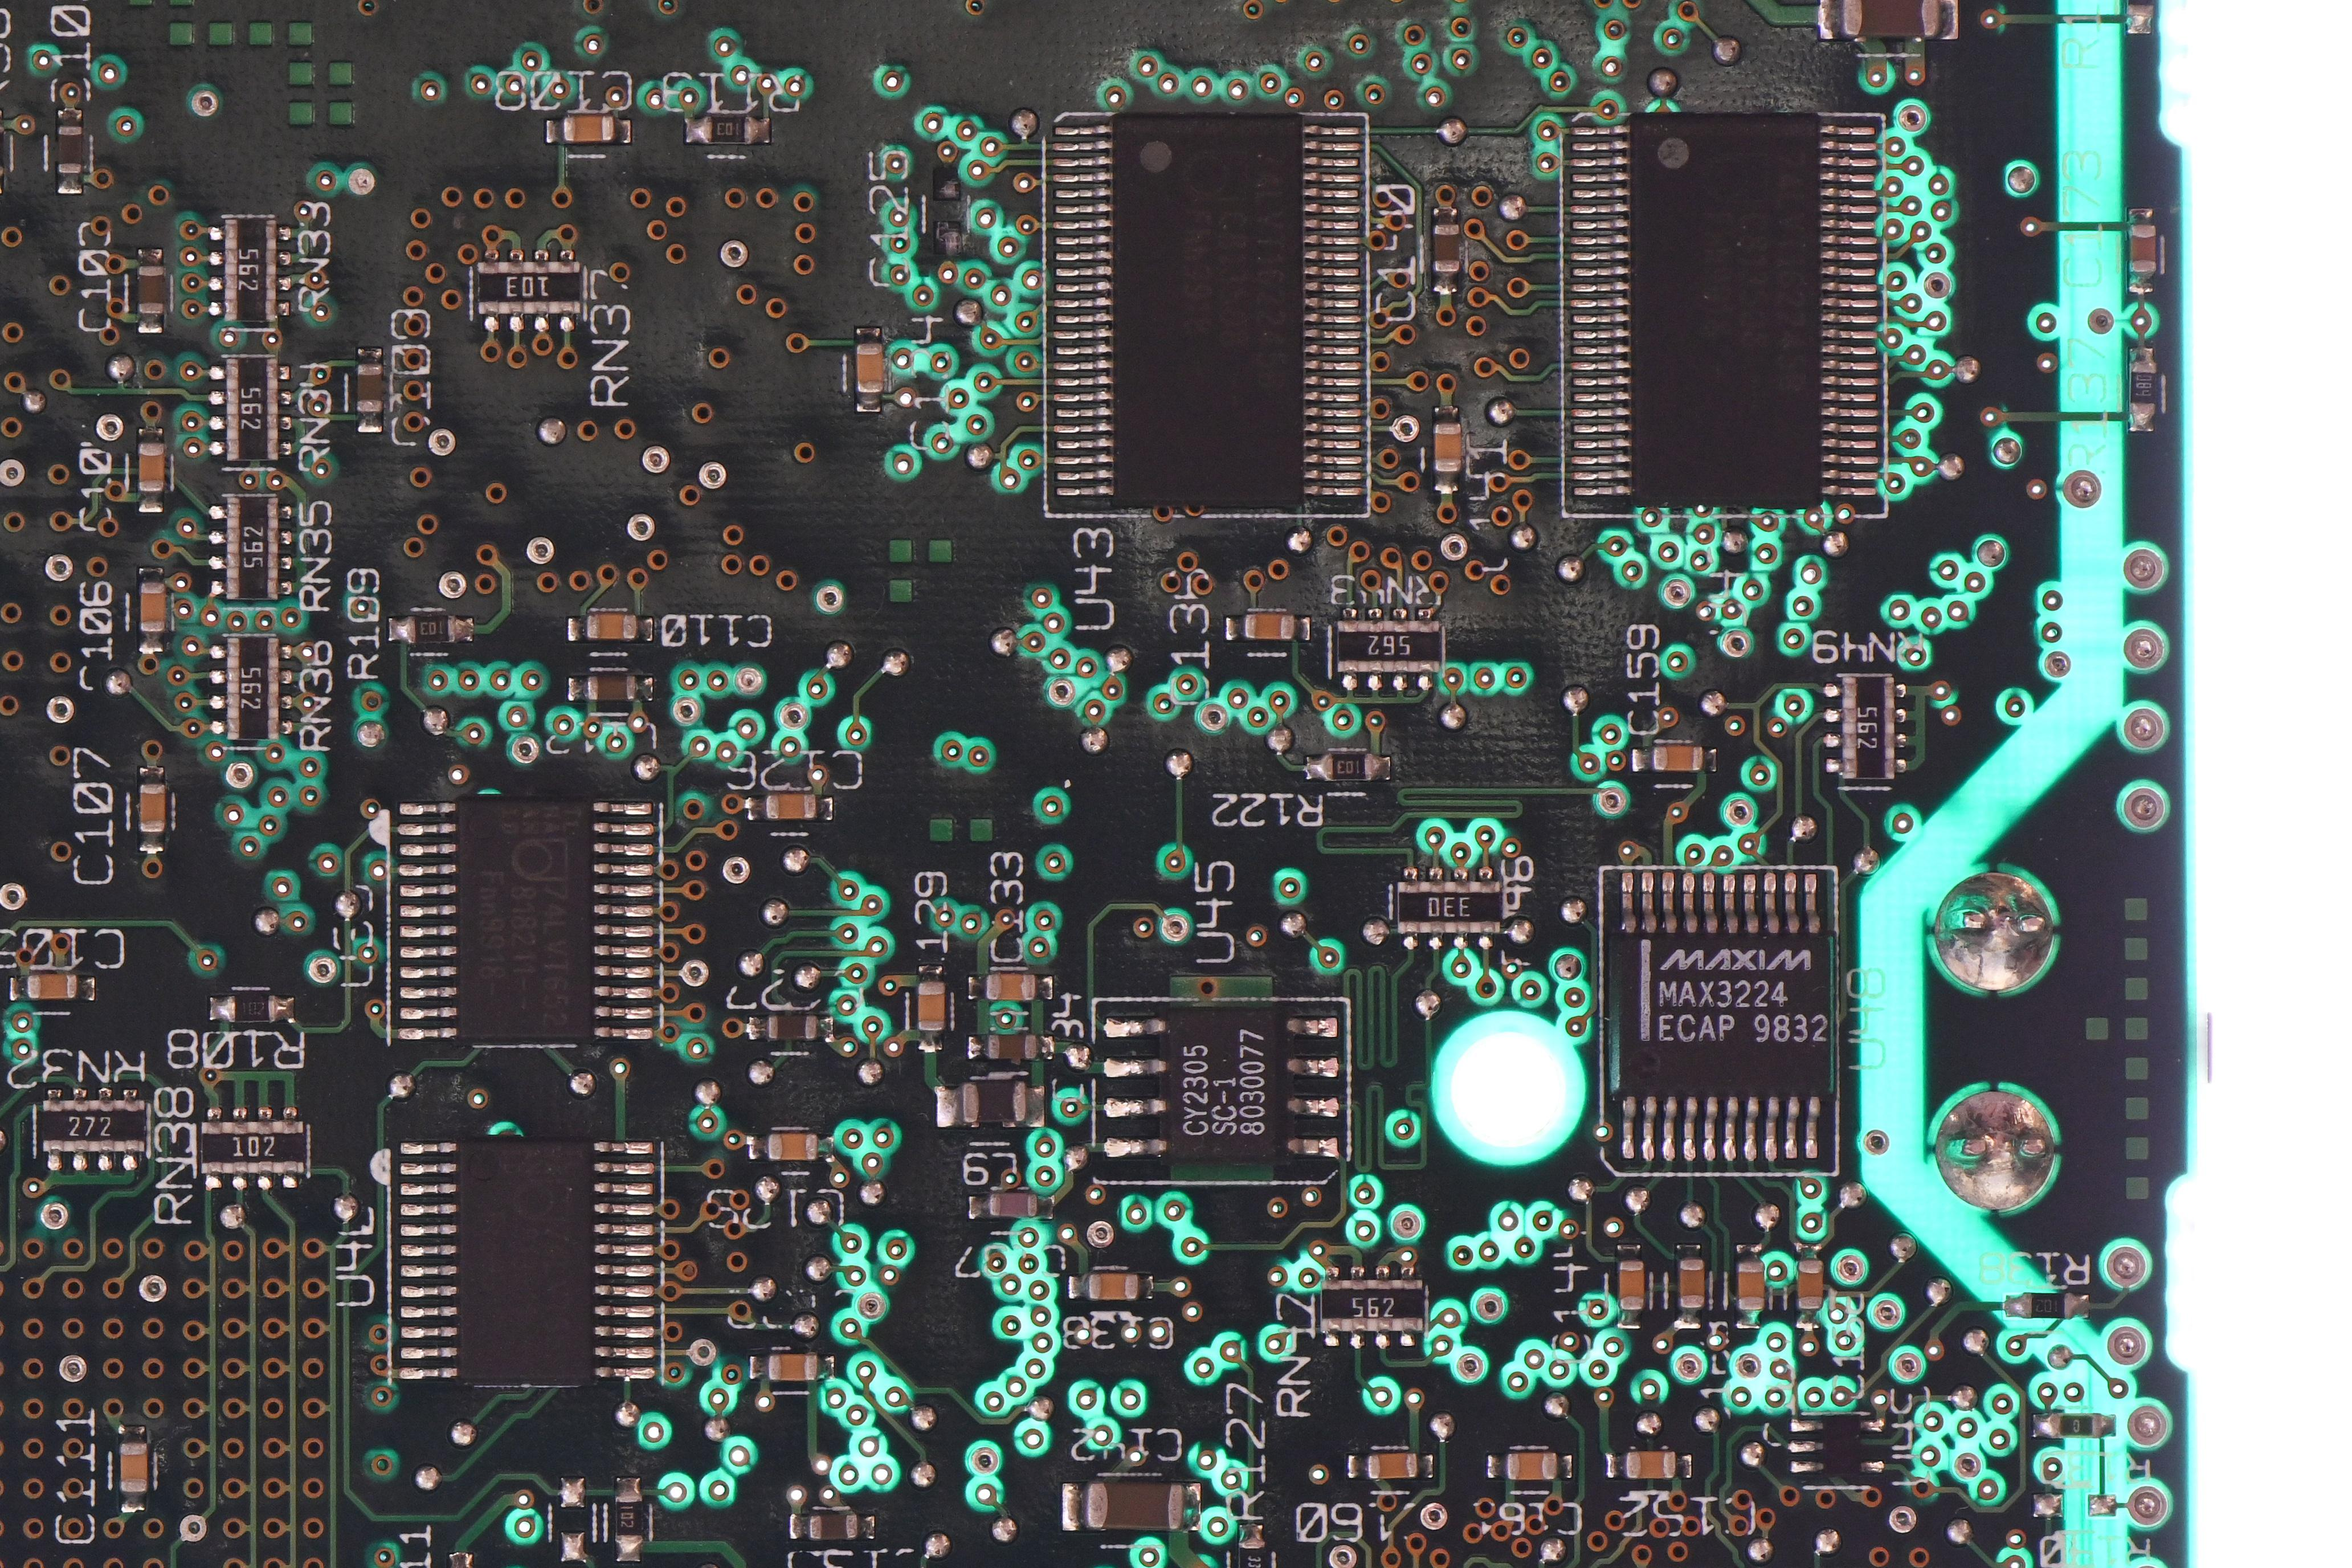ICs: (1622, 109, 1827, 514), (1104, 105, 1309, 511), (1607, 926, 1841, 1106), (451, 1132, 599, 1386), (451, 791, 599, 1045), (1153, 1003, 1298, 1169), (1813, 1411, 1869, 1482)
capacitors: (1080, 1477, 1188, 1535), (114, 1437, 152, 1498), (1083, 1267, 1143, 1305), (579, 609, 640, 646), (2124, 220, 2161, 280), (133, 261, 170, 318), (1430, 418, 1467, 476), (912, 976, 949, 1034), (985, 1185, 1043, 1222), (803, 1509, 861, 1545), (1502, 1447, 1559, 1484), (135, 576, 170, 635), (1239, 609, 1298, 644), (759, 789, 819, 824), (1614, 1255, 1649, 1314), (1675, 1253, 1710, 1313), (1732, 1256, 1768, 1316), (558, 110, 616, 145), (135, 779, 170, 837), (23, 968, 81, 1003), (852, 338, 887, 396), (1428, 219, 1463, 277), (1649, 740, 1706, 775), (984, 1029, 1041, 1064), (1792, 1255, 1827, 1313), (135, 437, 168, 497), (352, 357, 385, 416), (51, 122, 86, 178), (984, 970, 1039, 1004), (765, 1129, 821, 1164), (765, 1349, 821, 1384), (1622, 1447, 1678, 1482), (1363, 1449, 1421, 1482), (763, 1010, 821, 1041), (583, 672, 639, 703)
resistors: (1330, 614, 1447, 677), (471, 256, 586, 318), (1389, 877, 1507, 938), (198, 1115, 308, 1178), (37, 1094, 147, 1157), (222, 632, 284, 744), (220, 213, 282, 326), (222, 353, 284, 465), (222, 492, 284, 604), (1316, 1276, 1428, 1337), (1837, 674, 1899, 782), (2123, 357, 2159, 424), (697, 110, 759, 147), (609, 1489, 648, 1549), (401, 611, 459, 649), (222, 989, 282, 1025), (2016, 1288, 2075, 1325), (1316, 749, 1377, 784), (2048, 1407, 2105, 1442), (1235, 1535, 1272, 1568), (0, 119, 11, 180)
